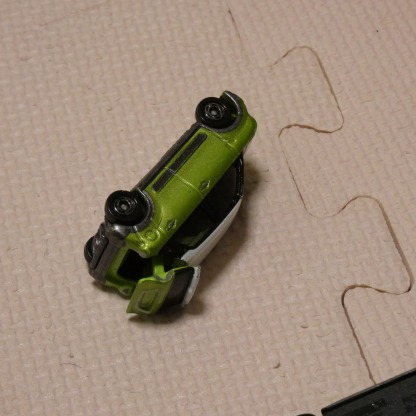car: (81, 87, 274, 332)
